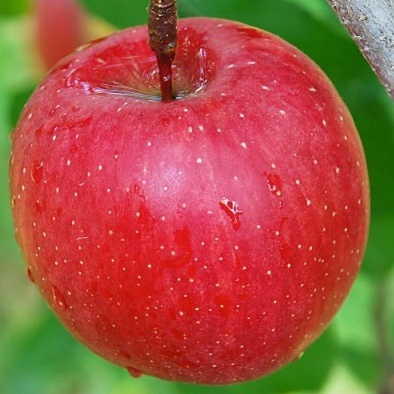apple: (15, 14, 369, 382)
